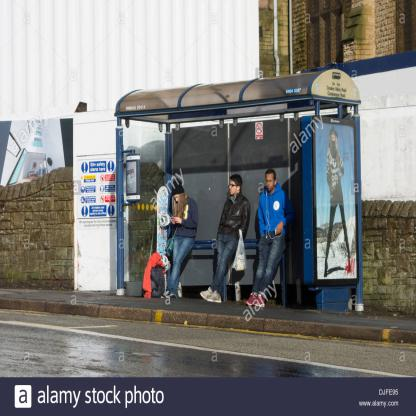Not_Wearing_Mask: (266, 174, 274, 192), (229, 180, 236, 194), (174, 194, 181, 205)
